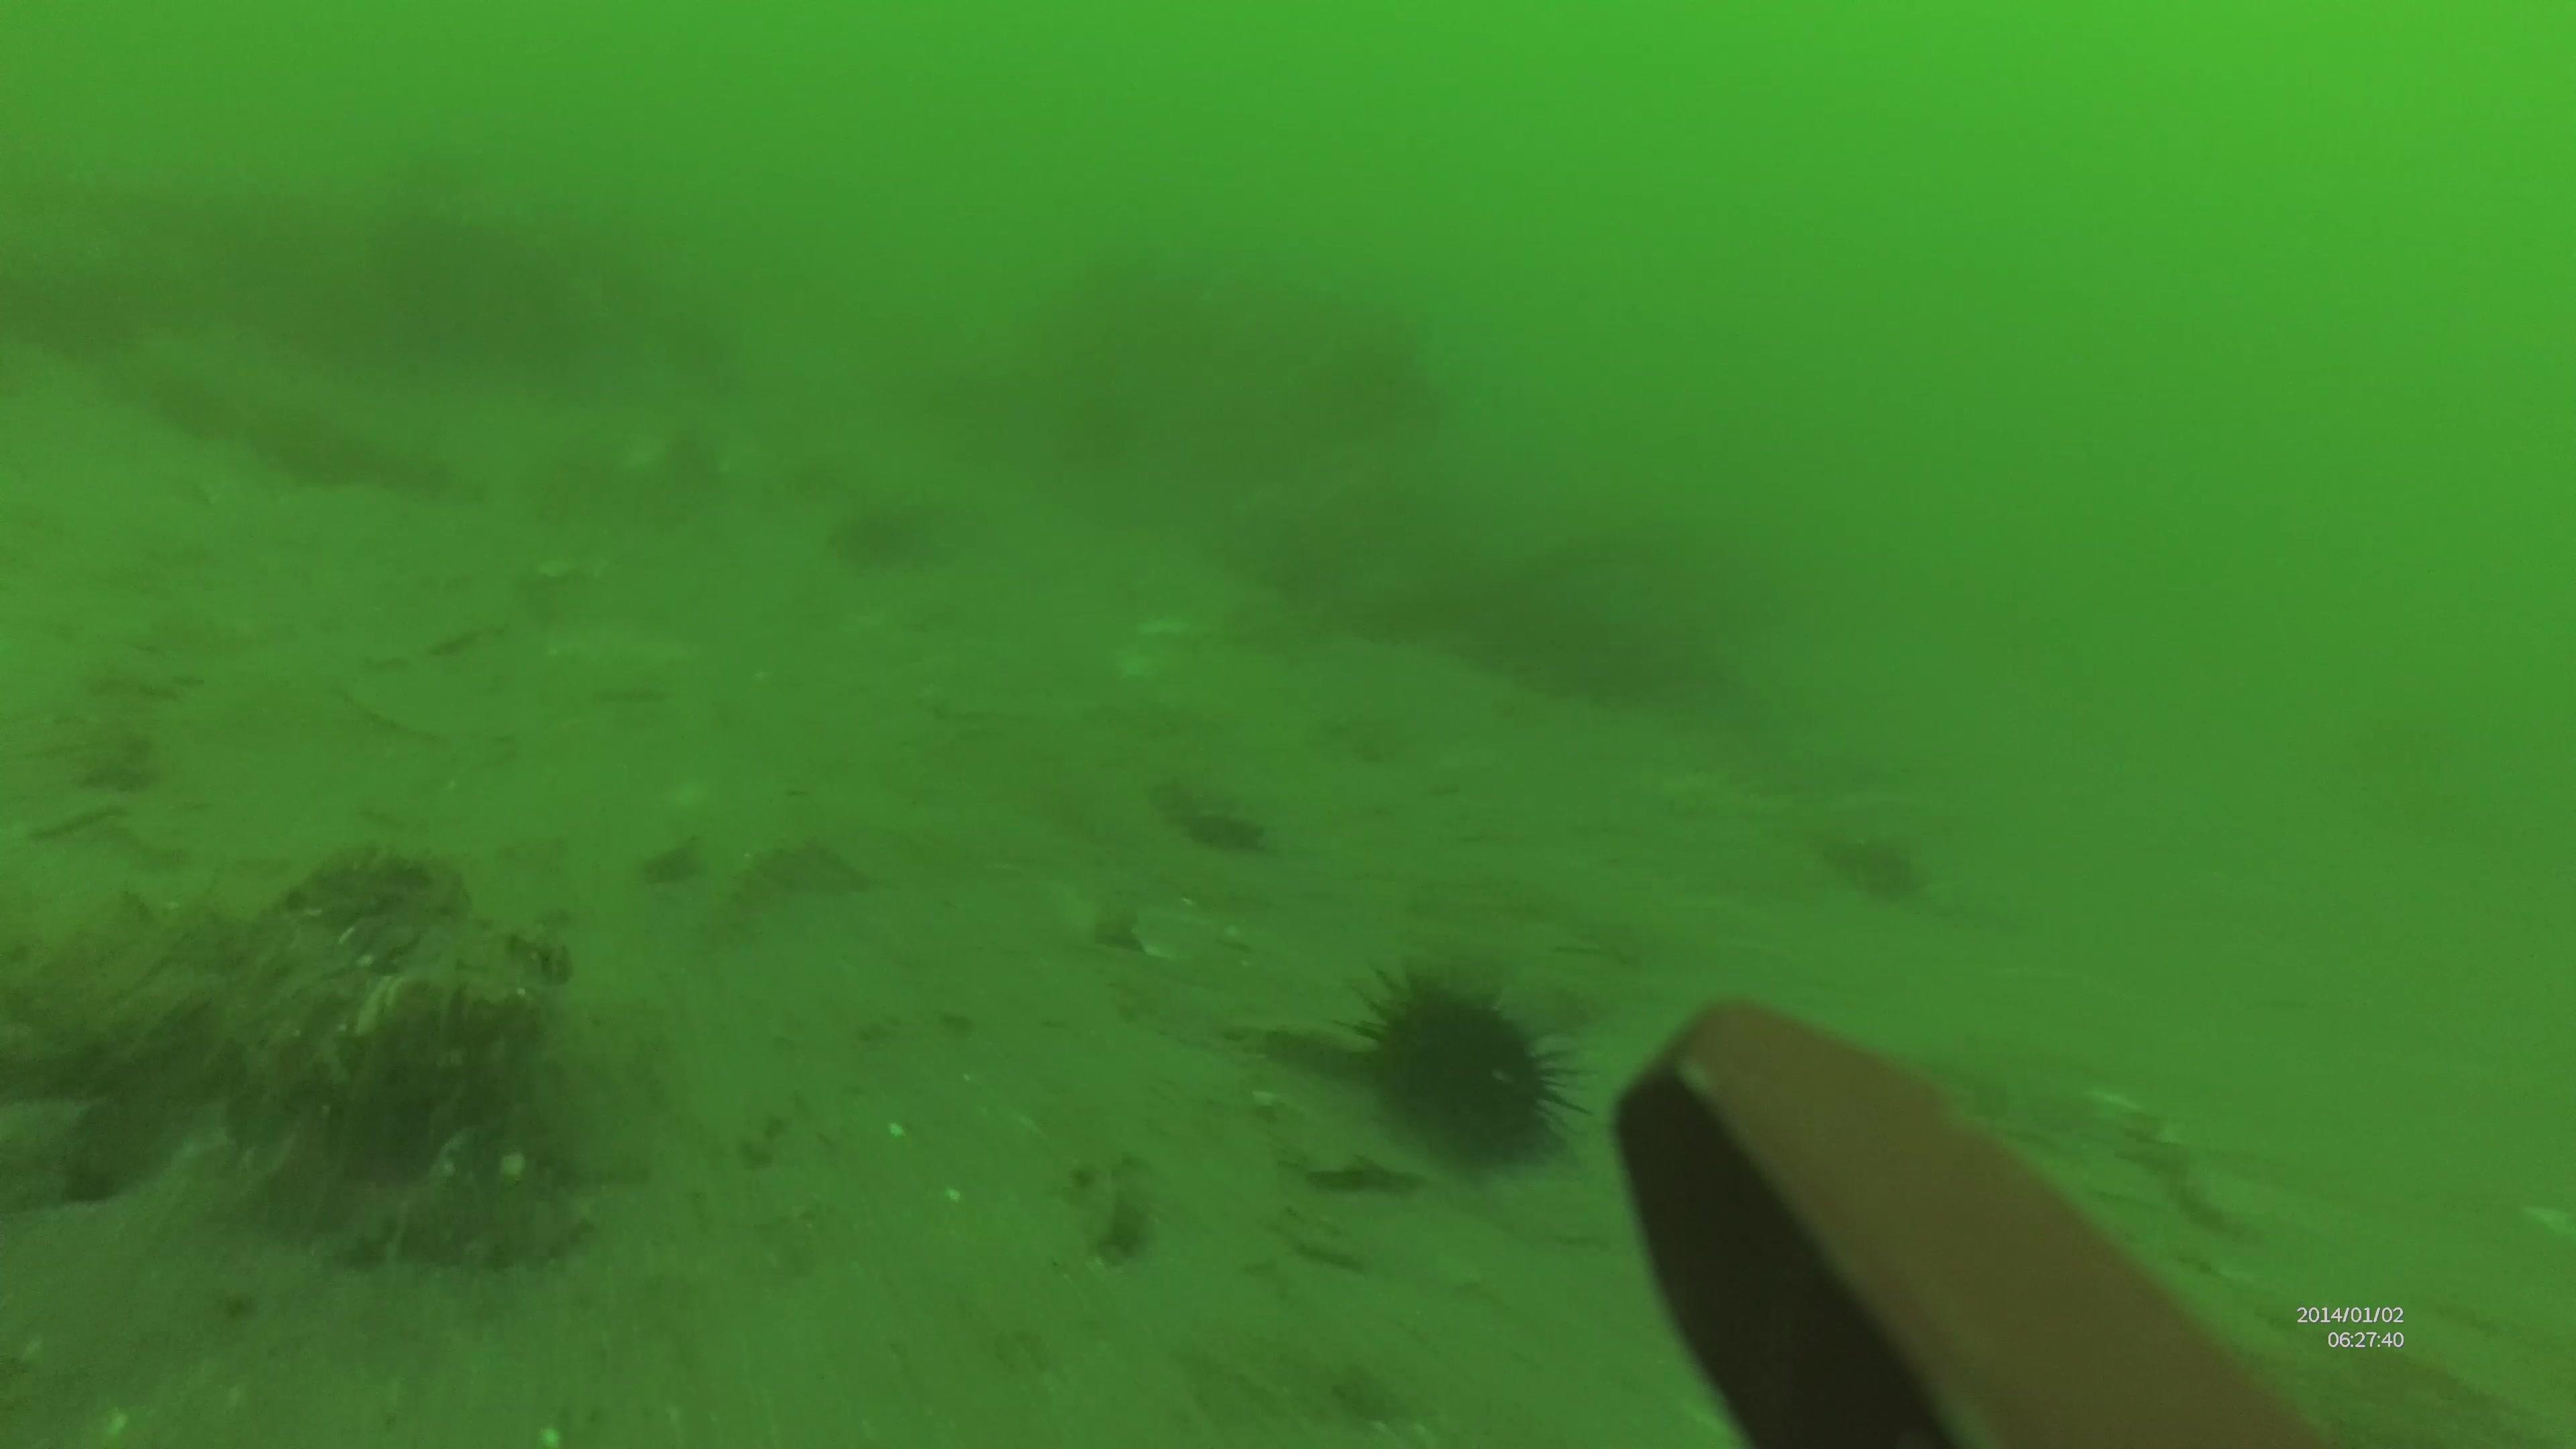echinus: (1350, 964, 1592, 1173)
